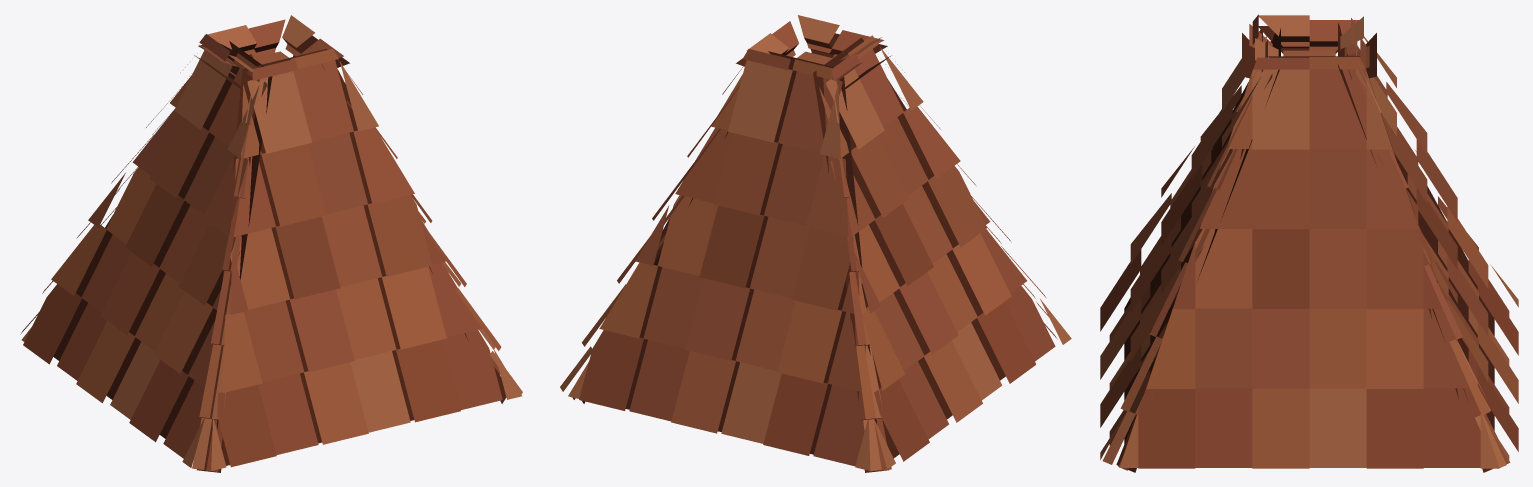
Rendered from roof-high-point-tile.glb.
3 views of the same model, side by side, from view 1: azimuth 30°, elevation 25°; view 2: azimuth 150°, elevation 25°; view 3: azimuth 270°, elevation 25° (orthographic). The views are drawn at different scales.
Parts seen in each view (by area): view 1: roof-high-point-tile; view 2: roof-high-point-tile; view 3: roof-high-point-tile.
Boxes of the visible parts, x1,y1,x2,y2 form: roof-high-point-tile: [20, 15, 522, 472]; roof-high-point-tile: [560, 15, 1071, 472]; roof-high-point-tile: [1100, 14, 1518, 472].
Size of the model in its own units: 1.1 by 1.03 by 1.1.
